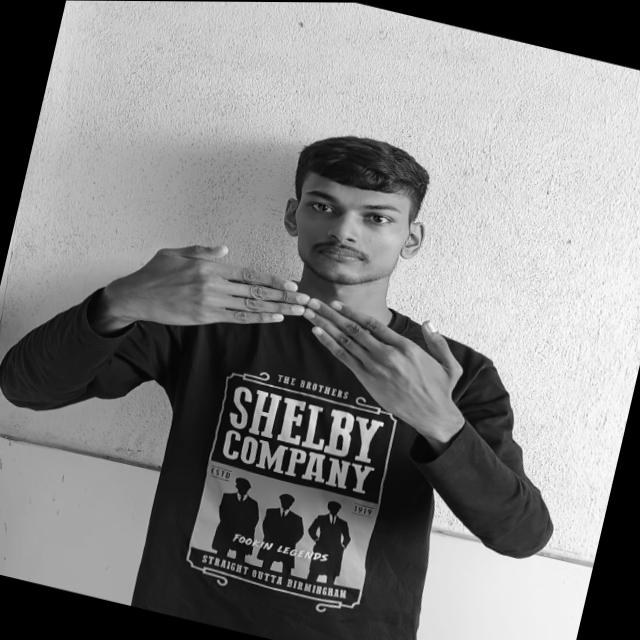Night: (113, 224, 474, 406)
